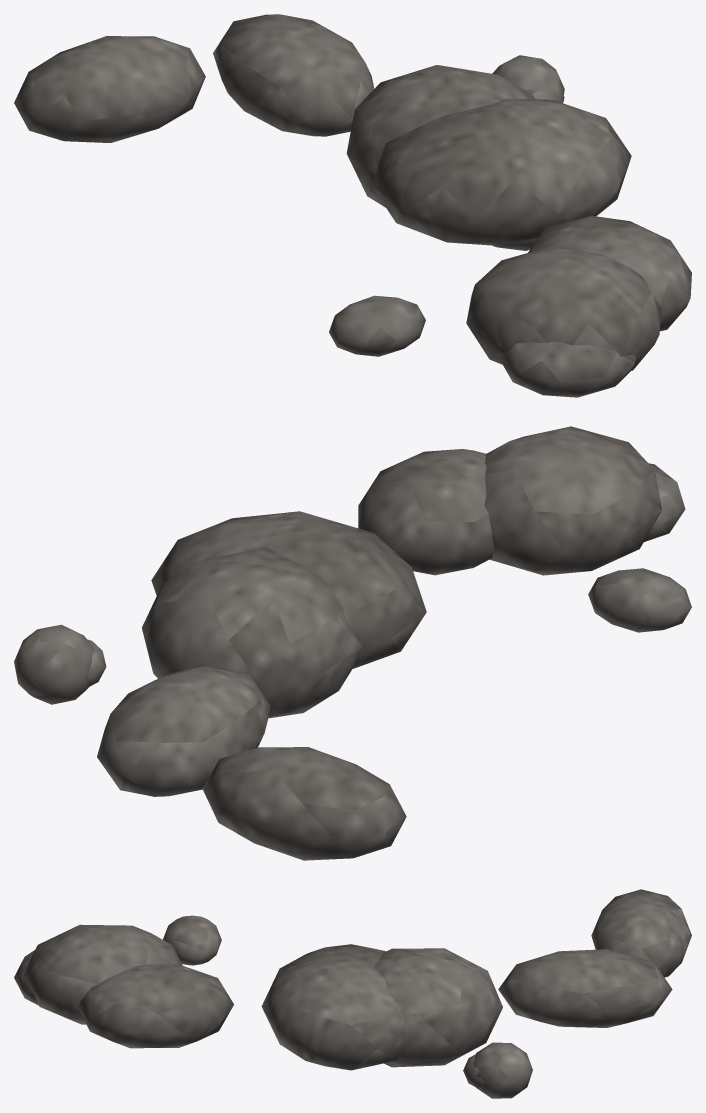
File: pebble_cluster_1.glb
3 renders of one model, top to bottom at view 1: azimuth 30°, elevation 25°; view 2: azimuth 150°, elevation 25°; view 3: azimuth 270°, elevation 25°, orthographic. The views are drawn at different scales.
Visible parts, largest first — view 1: pebble_cluster_1; view 2: pebble_cluster_1; view 3: pebble_cluster_1.
Part boxes in pixels (x1,y1,x2,y2): pebble_cluster_1: (14,14,691,397); pebble_cluster_1: (14,426,691,860); pebble_cluster_1: (14,889,691,1098).
Size of the model in its own units: 1.08 by 0.3184 by 1.85.
Materials: 1 (1 with a texture image).
